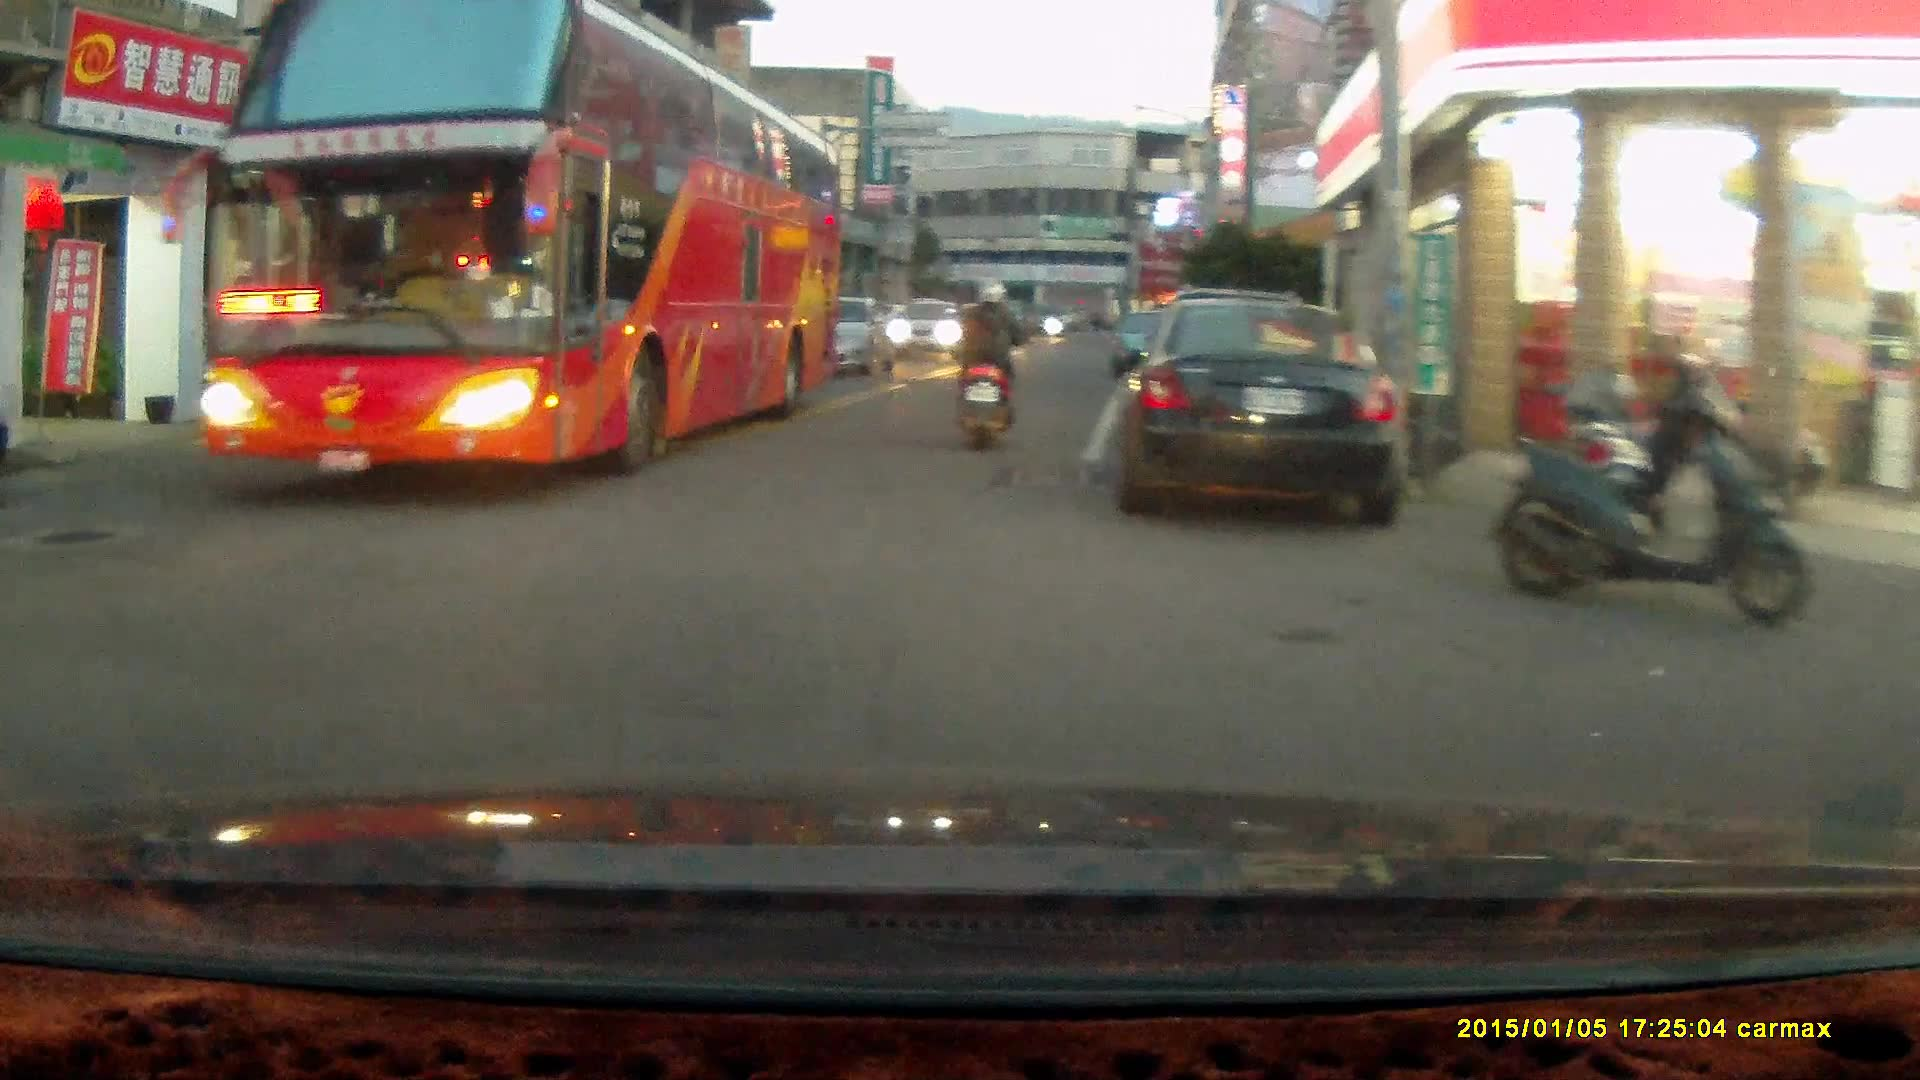rider: (944, 273, 1019, 453)
vehicle: (203, 1, 851, 485), (1095, 292, 1405, 528), (809, 296, 899, 379), (880, 292, 976, 364)
